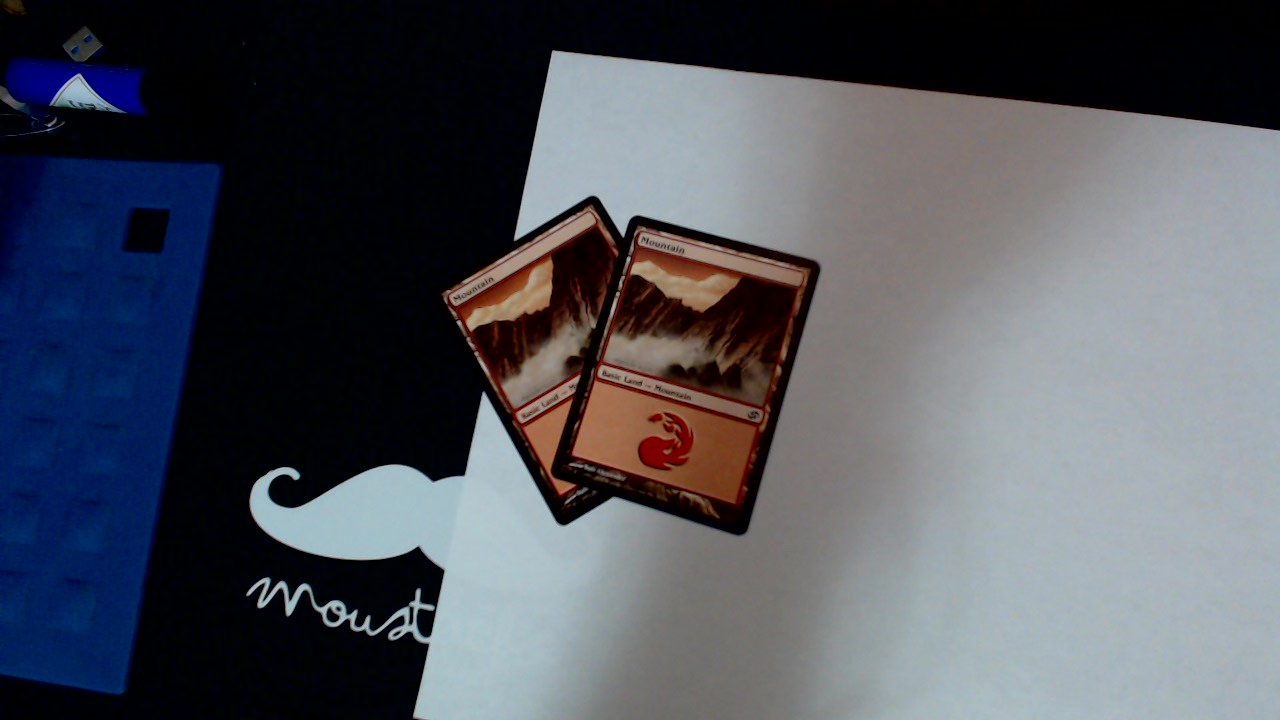MTG Card: (547, 212, 826, 544), (437, 190, 673, 530)
